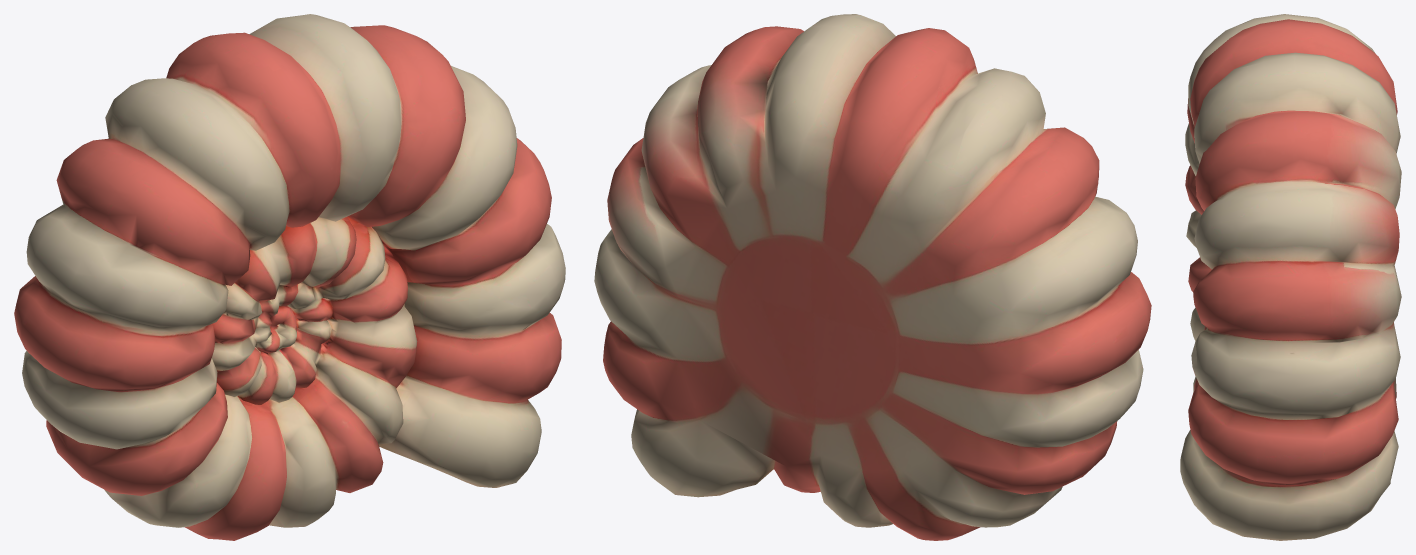
The model's file is ammonite-shell.glb.
3 renders of one model, left to right at view 1: azimuth 30°, elevation 25°; view 2: azimuth 150°, elevation 25°; view 3: azimuth 270°, elevation 25°, orthographic. The views are drawn at different scales.
Visible parts, largest first — view 1: Ammonite Shell; view 2: Ammonite Shell; view 3: Ammonite Shell.
Part boxes in pixels (<box>): Ammonite Shell: <box>14,14,565,540</box>; Ammonite Shell: <box>594,14,1151,540</box>; Ammonite Shell: <box>1180,14,1401,540</box>.
Size of the model in its own units: 0.998 by 0.8887 by 0.4277.
1 material, 1 textured.
